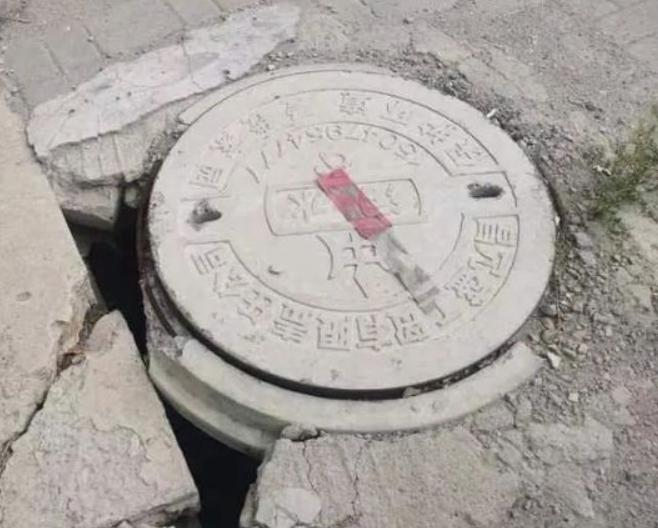wellcover: (31, 63, 590, 495)
